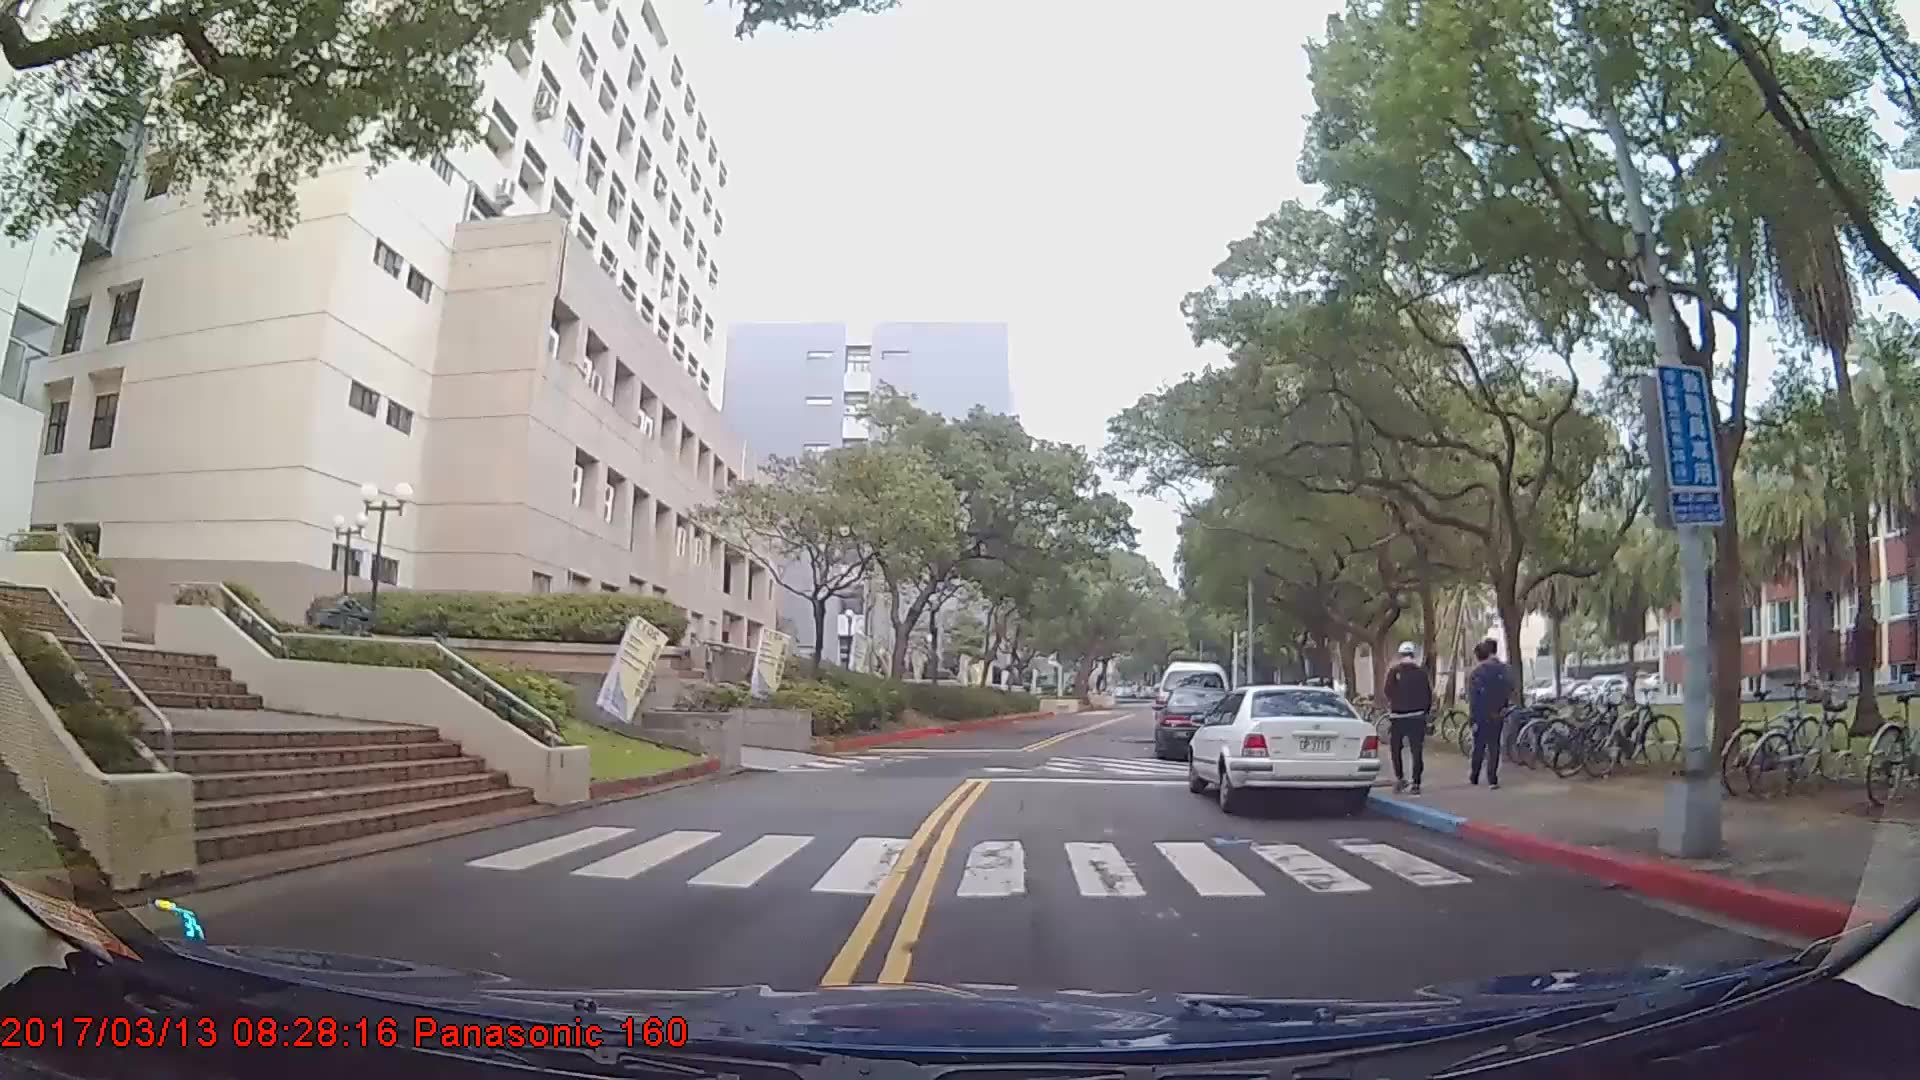pedestrian: (1464, 640, 1517, 794), (1384, 644, 1436, 798)
vehicle: (1188, 683, 1382, 814), (1154, 685, 1246, 761)
